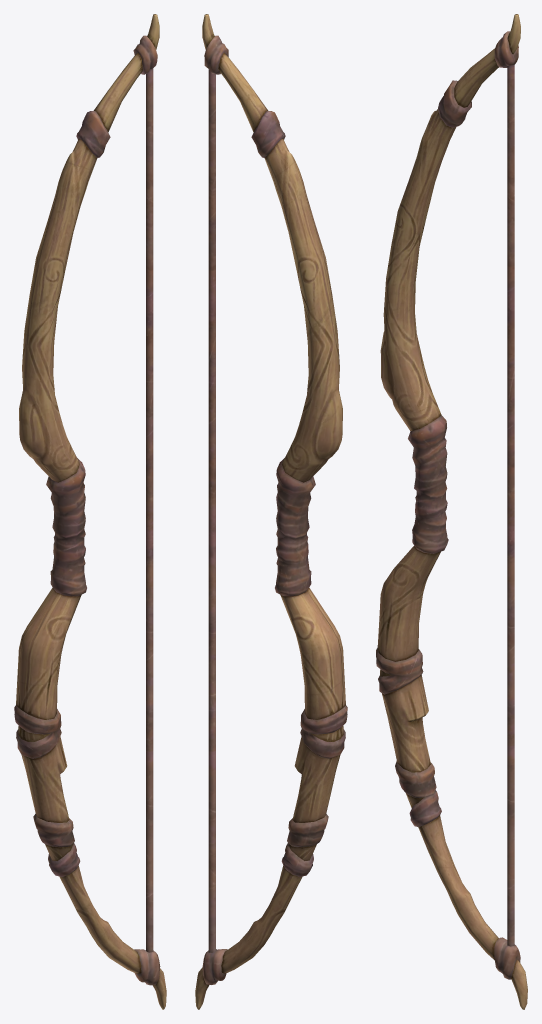
3 renders of one model, left to right at view 1: azimuth 30°, elevation 25°; view 2: azimuth 150°, elevation 25°; view 3: azimuth 330°, elevation 25°, orthographic.
Visible parts, largest first — view 1: SM_Longbow_OakWood_2H_01_LOD0; view 2: SM_Longbow_OakWood_2H_01_LOD0; view 3: SM_Longbow_OakWood_2H_01_LOD0.
Boxes of the visible parts, box(x1,y1,x2,y2) form: SM_Longbow_OakWood_2H_01_LOD0: box(14, 14, 166, 1009); SM_Longbow_OakWood_2H_01_LOD0: box(195, 14, 347, 1009); SM_Longbow_OakWood_2H_01_LOD0: box(376, 14, 527, 1009).
Size of the model in its own units: 0.283 by 1.83 by 0.0829.
1 material, 1 textured.
